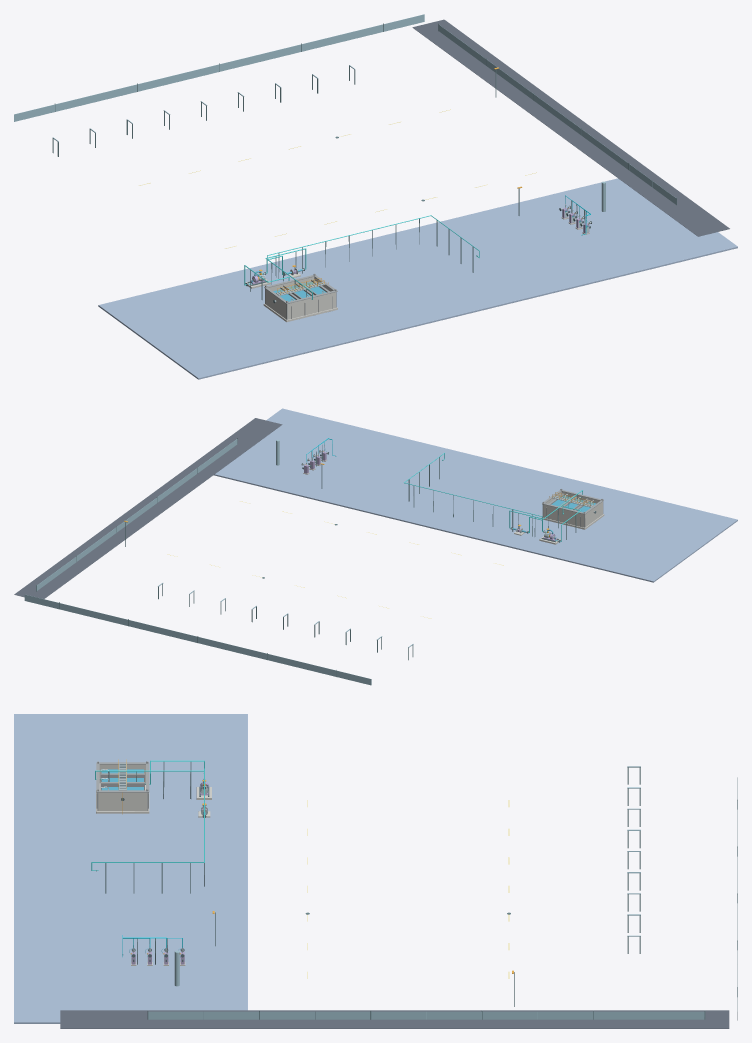
3 renders of one model, top to bottom at view 1: azimuth 30°, elevation 25°; view 2: azimuth 150°, elevation 25°; view 3: azimuth 270°, elevation 25°, orthographic. The views are drawn at different scales.
Visible parts, largest first — view 1: render-batch-9, render-batch-5, render-batch-7, render-batch-13, render-batch-6, render-batch-8, render-batch-1; view 2: render-batch-9, render-batch-5, render-batch-7, render-batch-13, render-batch-6, render-batch-8, render-batch-1; view 3: render-batch-9, render-batch-5, render-batch-7, render-batch-13, render-batch-6, render-batch-8, render-batch-1.
Part boxes in pixels (left/top/right/bottom): render-batch-9: left=98, top=178, right=737, bottom=379; render-batch-5: left=412, top=19, right=729, bottom=236; render-batch-7: left=14, top=14, right=676, bottom=211; render-batch-13: left=245, top=217, right=589, bottom=322; render-batch-6: left=52, top=23, right=676, bottom=300; render-batch-8: left=264, top=273, right=337, bottom=319; render-batch-1: left=244, top=215, right=479, bottom=299; render-batch-9: left=214, top=408, right=737, bottom=582; render-batch-5: left=14, top=418, right=282, bottom=598; render-batch-7: left=24, top=439, right=413, bottom=685; render-batch-13: left=303, top=459, right=604, bottom=544; render-batch-6: left=36, top=438, right=581, bottom=676; render-batch-8: left=542, top=488, right=603, bottom=527; render-batch-1: left=404, top=453, right=582, bottom=541; render-batch-9: left=14, top=714, right=247, bottom=1023; render-batch-5: left=60, top=1010, right=729, bottom=1028; render-batch-7: left=148, top=766, right=737, bottom=1020; render-batch-13: left=96, top=764, right=211, bottom=965; render-batch-6: left=96, top=762, right=737, bottom=1019; render-batch-8: left=96, top=761, right=149, bottom=810; render-batch-1: left=91, top=760, right=204, bottom=870.
Bounding box in the file's own units: 137 × 7.32 × 133.
